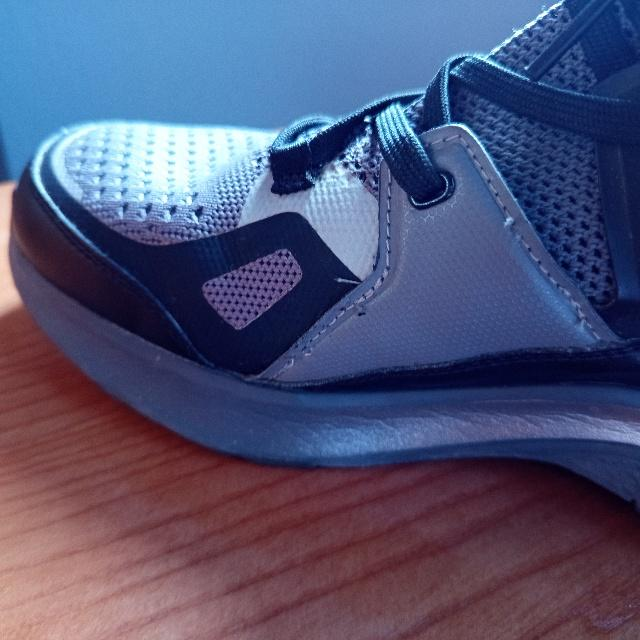broken-error: (282, 339, 318, 372), (500, 212, 524, 243)
